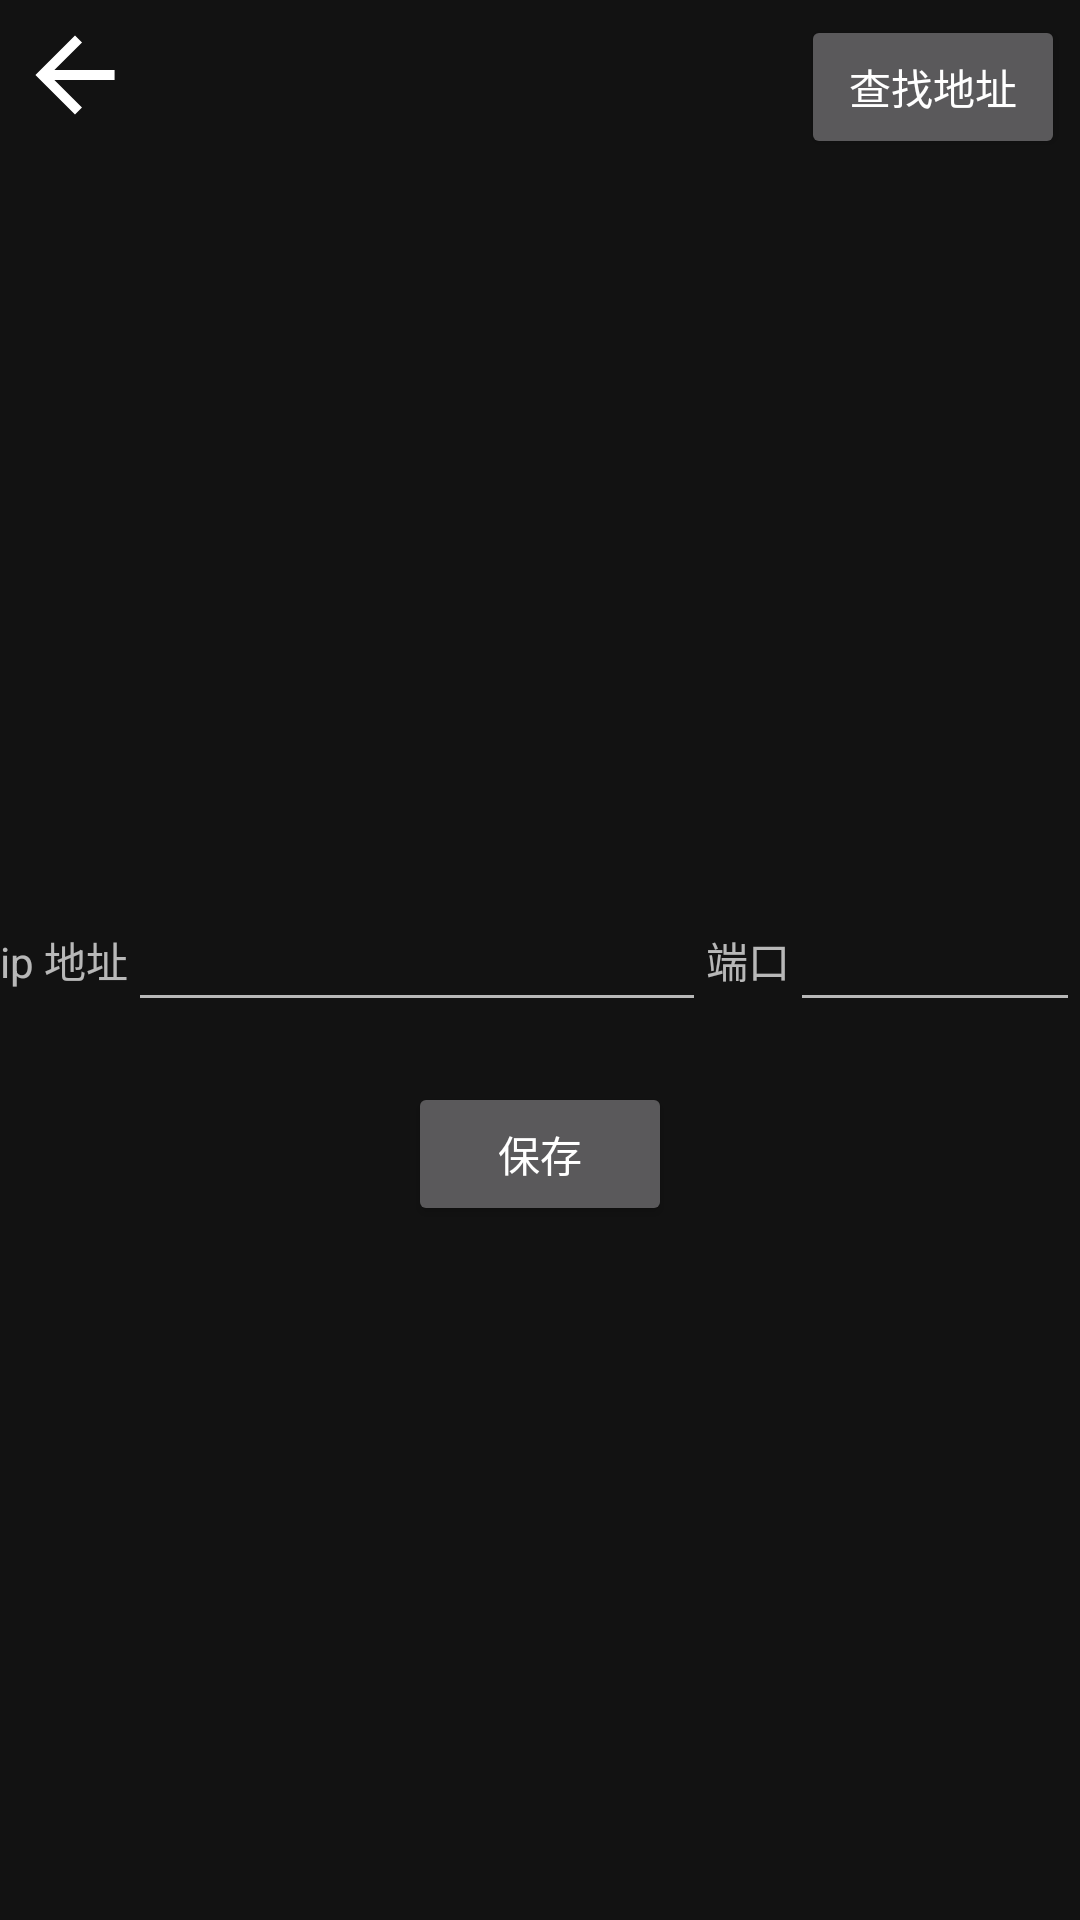

Icon bounding boxes for this 1080 x 1920 phone screenshot, format {"left": x1, "top": y1, "right": x2, "bottom": y2}:
back: {"left": 35, "top": 35, "right": 115, "bottom": 115}
